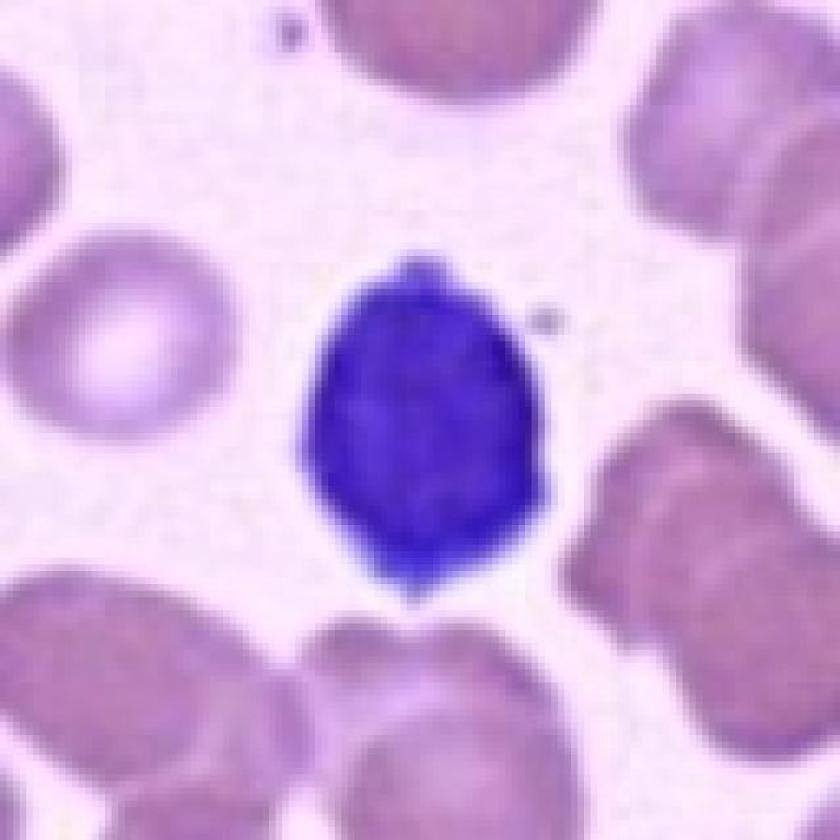lymphocyte: (287, 244, 567, 603)
